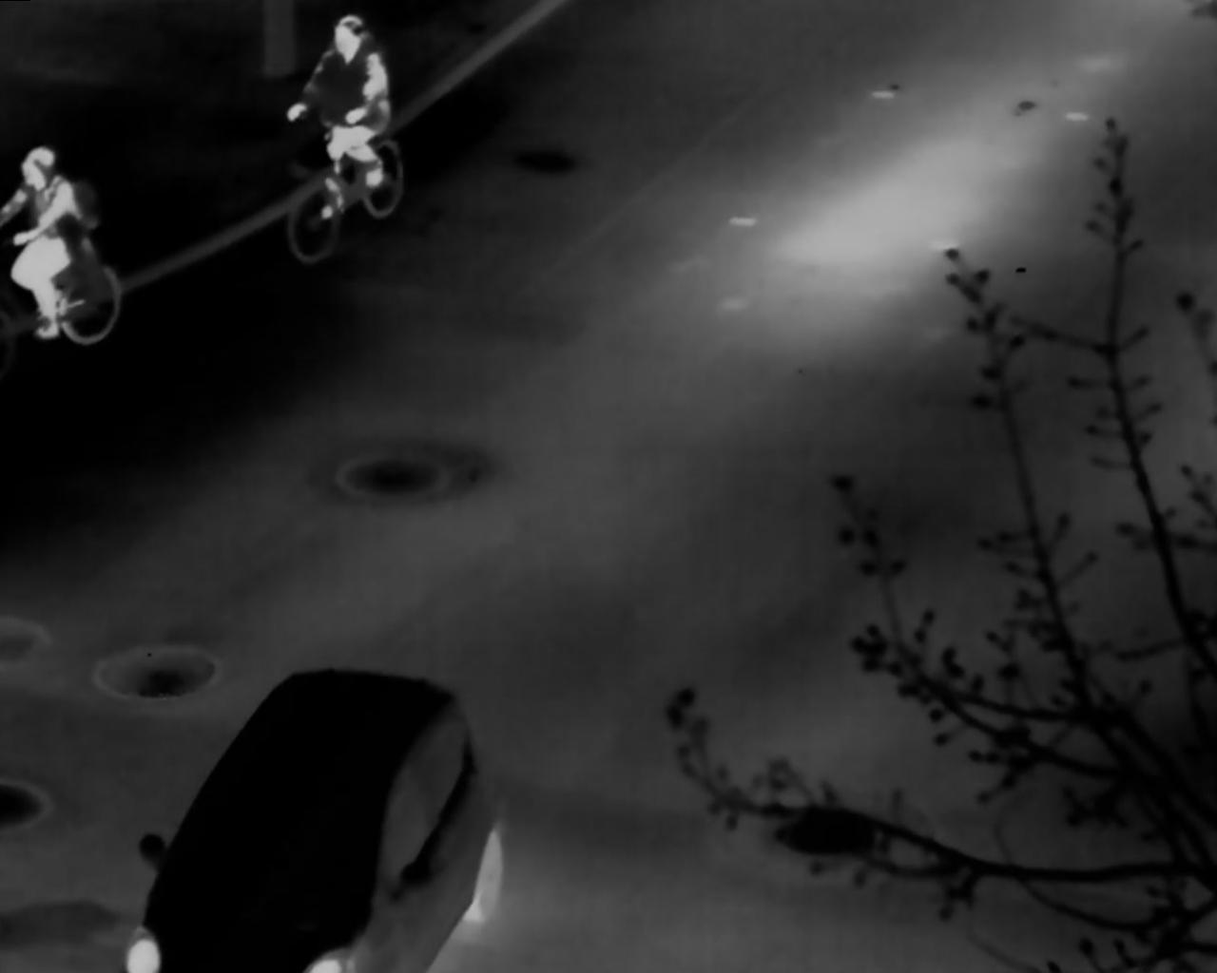person: (285, 15, 392, 219)
